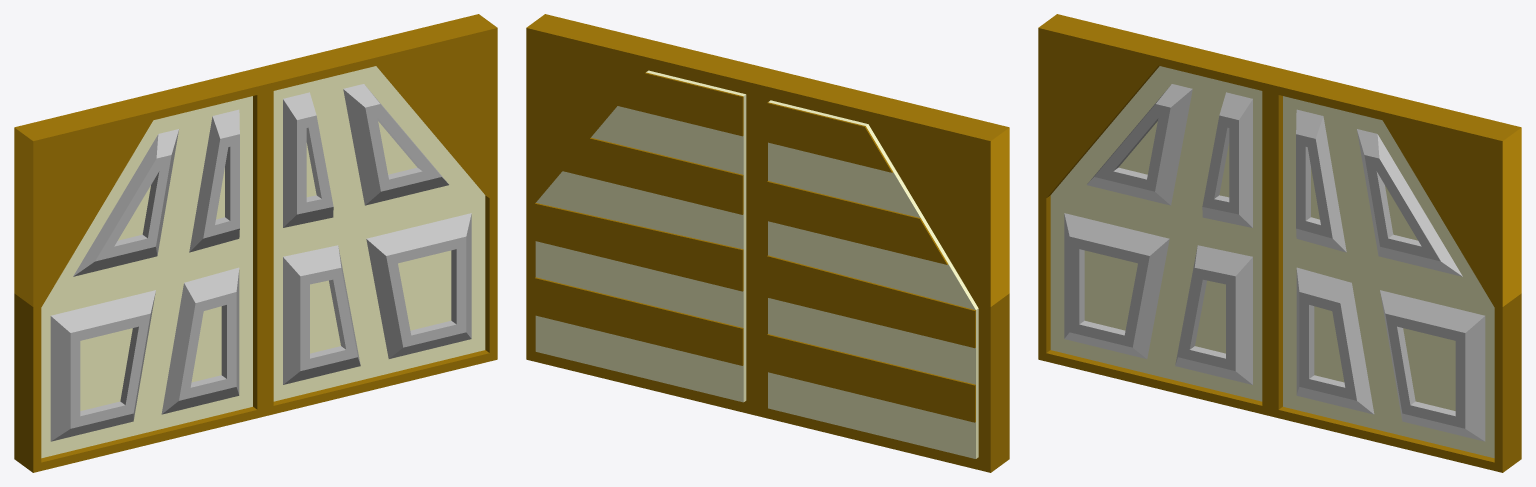
File: Doors.fbx
The picture shows the model from 3 angles, left to right: view 1: azimuth 30°, elevation 25°; view 2: azimuth 150°, elevation 25°; view 3: azimuth 330°, elevation 25°; orthographic projection.
Visible parts, largest first — view 1: DoorLeft, DoorRight; view 2: DoorLeft, DoorRight; view 3: DoorRight, DoorLeft.
Boxes of the visible parts, x1=… form: DoorLeft: x1=14, y1=70, x2=265, y2=472; DoorRight: x1=247, y1=14, x2=497, y2=416; DoorLeft: x1=758, y1=70, x2=1009, y2=472; DoorRight: x1=526, y1=14, x2=776, y2=416; DoorRight: x1=1270, y1=70, x2=1521, y2=472; DoorLeft: x1=1038, y1=14, x2=1288, y2=416.
Size of the model in its own units: 65.8 by 44.9 by 6.29.
